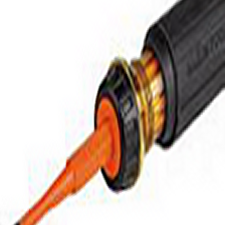Screwdriver: (46, 1, 225, 216)
